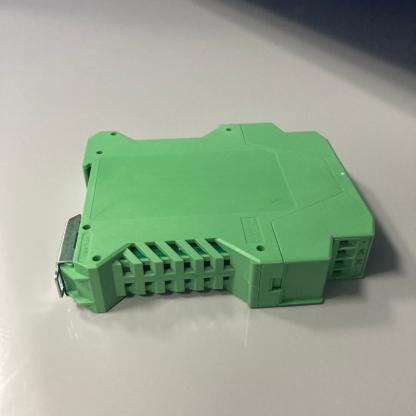SP0000011: (37, 73, 404, 367)
